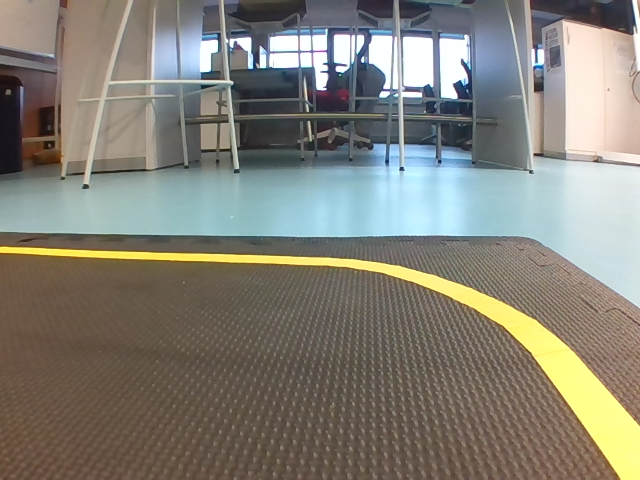no30: (313, 84, 362, 134)
